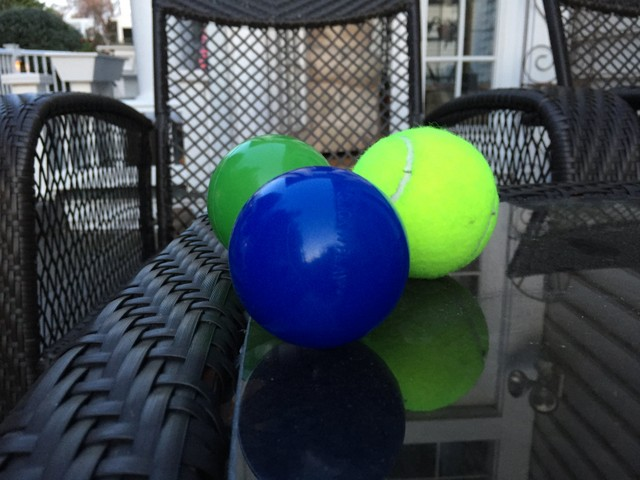ball: (229, 165, 412, 349)
